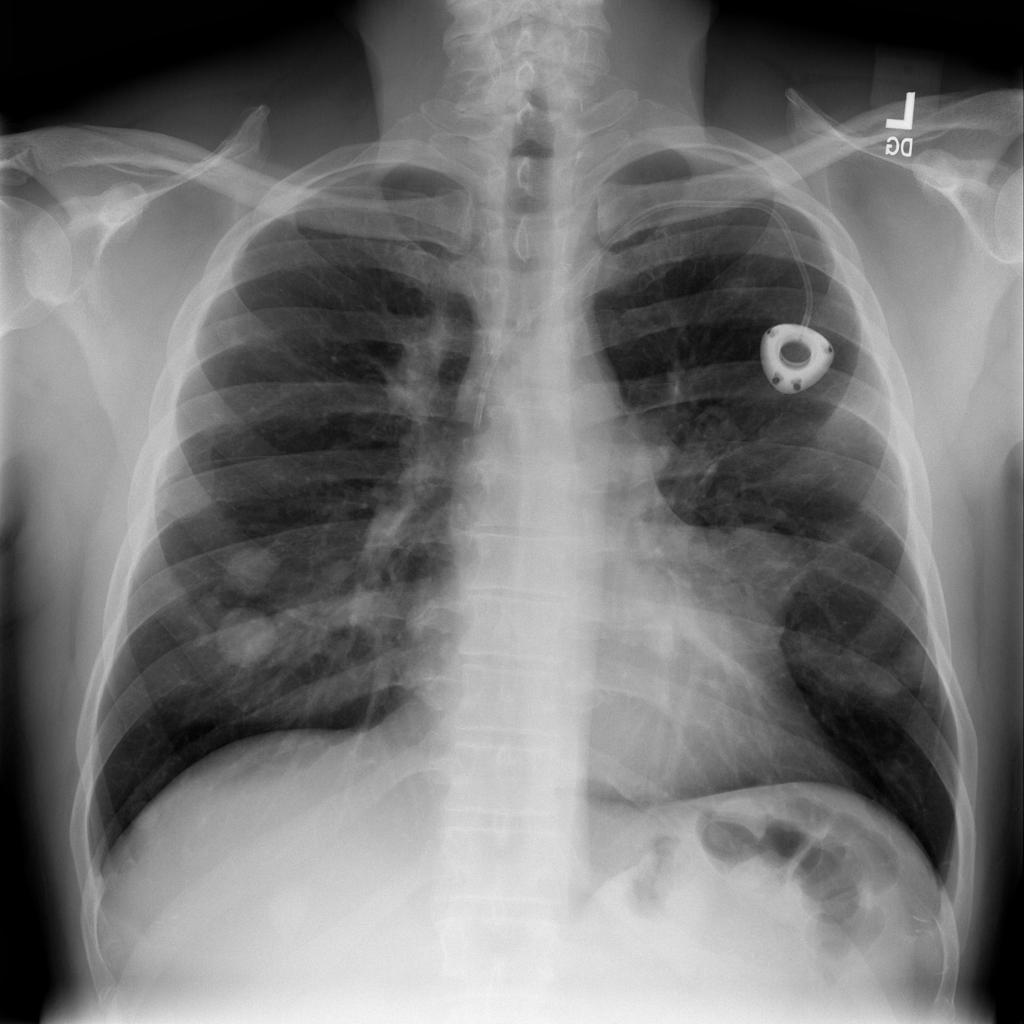nodule: (197, 597, 286, 672), (213, 535, 289, 603)
